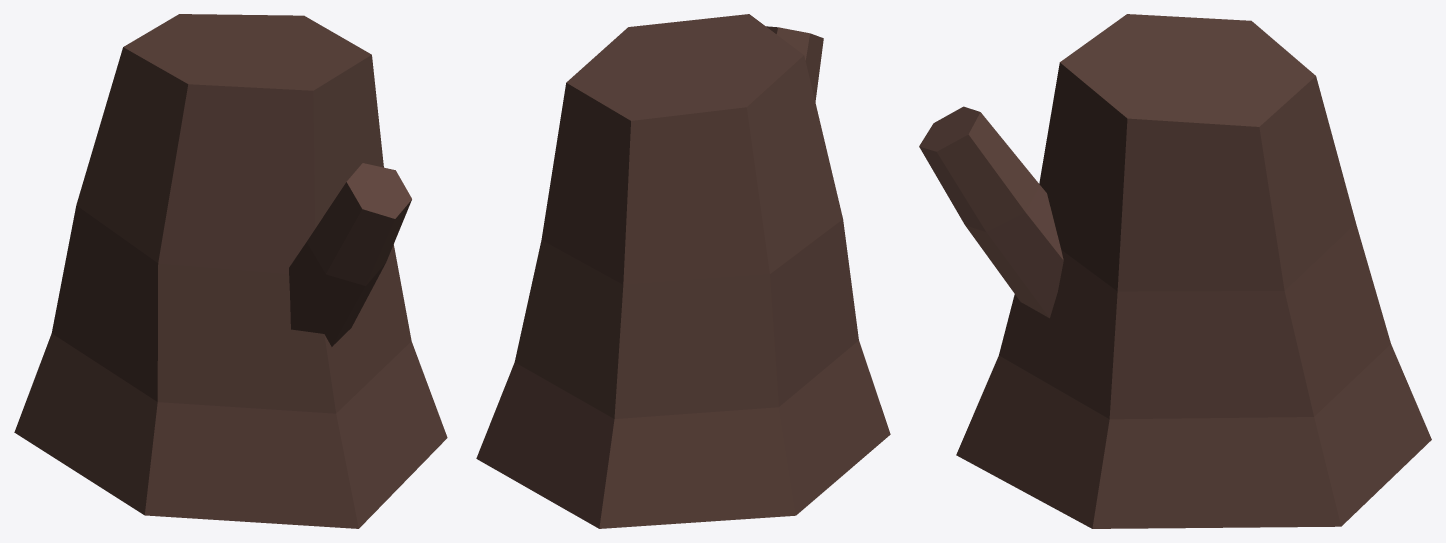
The model's file is Tree trunk 1.fbx.
3 renders of one model, left to right at view 1: azimuth 30°, elevation 25°; view 2: azimuth 150°, elevation 25°; view 3: azimuth 270°, elevation 25°, orthographic. The views are drawn at different scales.
Parts seen in each view (by area): view 1: Tree Trunk 1; view 2: Tree Trunk 1; view 3: Tree Trunk 1.
Boxes of the visible parts, left/top/right/bottom form: Tree Trunk 1: left=14, top=14, right=447, bottom=528; Tree Trunk 1: left=476, top=14, right=890, bottom=528; Tree Trunk 1: left=919, top=14, right=1431, bottom=528.
Size of the model in its own units: 0.9583 by 1.14 by 1.32.
